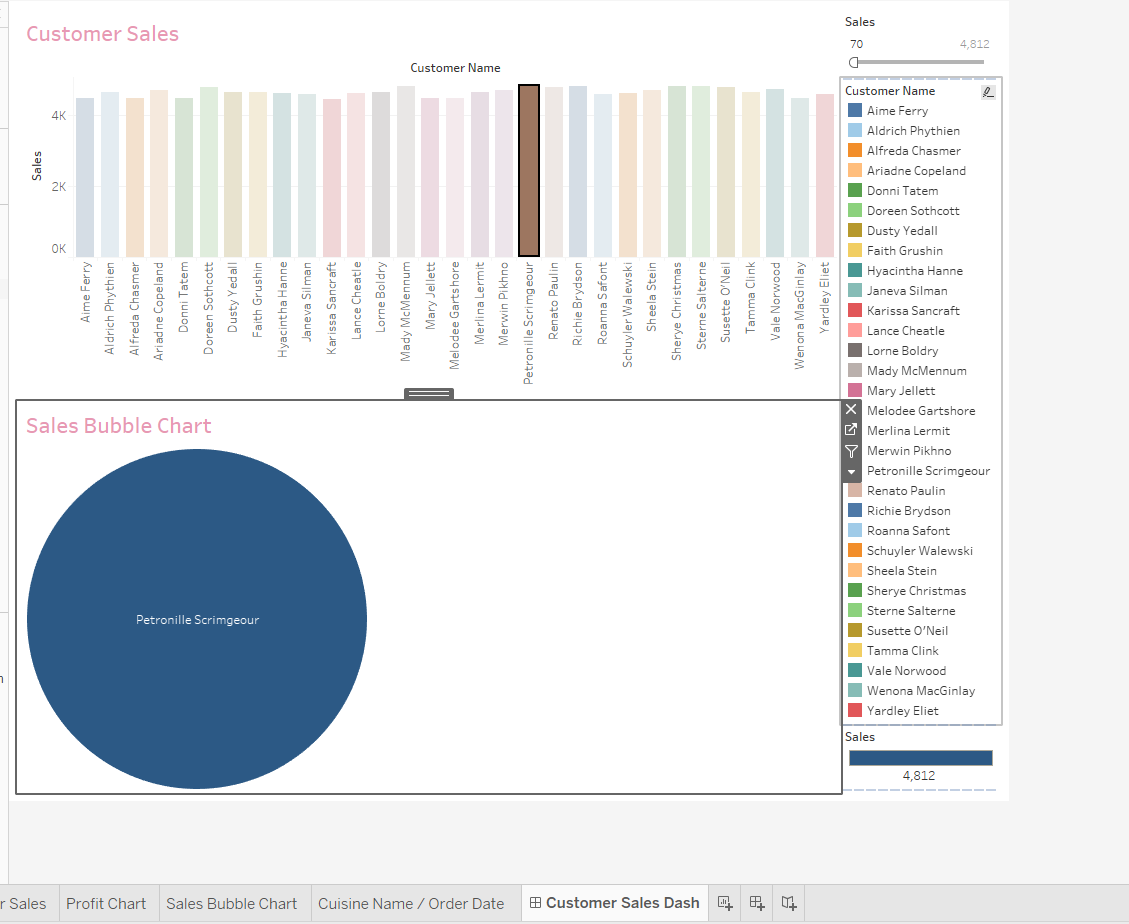

The page's visual inventory and layout, read from the dashboard file:
{"tool":"tableau","page":{"name":"Customer Sales Dash","canvas":[1000,800],"ordinal":0},"visuals":[{"type":"worksheet","title":"Customer Sales","mark":"Automatic","rows":["Sales"],"cols":["Customer Name"],"box":[8,8,824,392]},{"type":"filter","title":"Customer Sales","param":"[federated.1n6as4y0wtak921fnrsr30e8idq4].[sum:Sales:qk]","box":[832,8,160,69]},{"type":"legend","title":"Customer Sales","param":"[federated.1n6as4y0wtak921fnrsr30e8idq4].[none:Customer Name:nk]","box":[832,77,160,646]},{"type":"worksheet","title":"Sales Bubble Chart","mark":"Circle","box":[8,400,824,392]},{"type":"legend","title":"Sales Bubble Chart","param":"[federated.1n6as4y0wtak921fnrsr30e8idq4].[sum:Sales:qk]","box":[832,723,160,65]}]}

Visuals, with their boxes on the page's 1000x800 design canvas (x1, y1, x2, y2). These are canvas units, not pixel positions in the 1129x924 screenshot, which may show the page scaled, cropped or inside an application window:
"Customer Sales" worksheet: (left=8, top=8, right=832, bottom=400)
"Customer Sales" filter: (left=832, top=8, right=992, bottom=77)
"Customer Sales" legend: (left=832, top=77, right=992, bottom=723)
"Sales Bubble Chart" worksheet (Circle marks): (left=8, top=400, right=832, bottom=792)
"Sales Bubble Chart" legend: (left=832, top=723, right=992, bottom=788)
